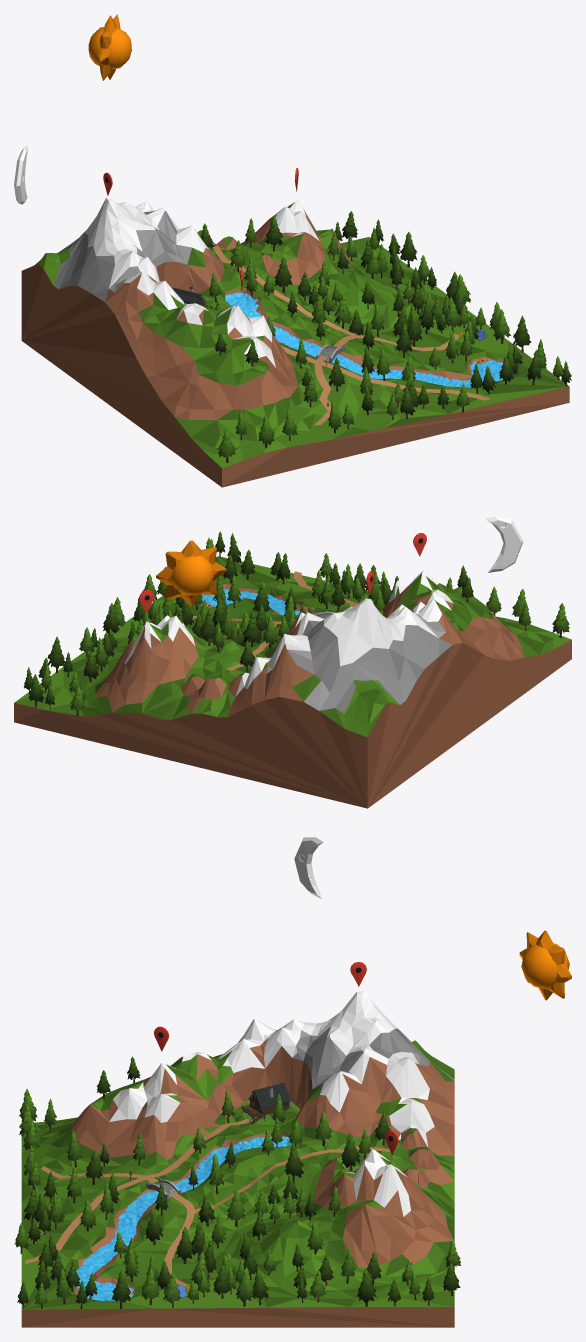
Rendered from mountain.glb.
3 views of the same model, one above another, from view 1: azimuth 30°, elevation 25°; view 2: azimuth 150°, elevation 25°; view 3: azimuth 270°, elevation 25° (orthographic). The views are drawn at different scales.
Parts seen in each view (by area): view 1: ground, water, path, Sun; view 2: ground, Sun, Moon, water, path; view 3: ground, water, path, Sun, Cabin, Moon.
Boxes of the visible parts, left/top/right/bottom form: ground: left=21, top=197, right=569, bottom=487; water: left=225, top=292, right=503, bottom=387; path: left=213, top=245, right=490, bottom=425; Sun: left=88, top=14, right=131, bottom=80; ground: left=14, top=556, right=571, bottom=808; Sun: left=156, top=540, right=226, bottom=606; Moon: left=485, top=516, right=523, bottom=572; water: left=197, top=588, right=299, bottom=615; path: left=191, top=571, right=357, bottom=670; ground: left=21, top=991, right=454, bottom=1327; water: left=76, top=1136, right=291, bottom=1300; path: left=25, top=1119, right=390, bottom=1286; Sun: left=519, top=930, right=571, bottom=1000; Cabin: left=241, top=1082, right=290, bottom=1124; Moon: left=294, top=837, right=323, bottom=898.
Size of what is drawn, in the model's own units: 43.87 by 25.34 by 45.28.
16 materials, 6 textured.
